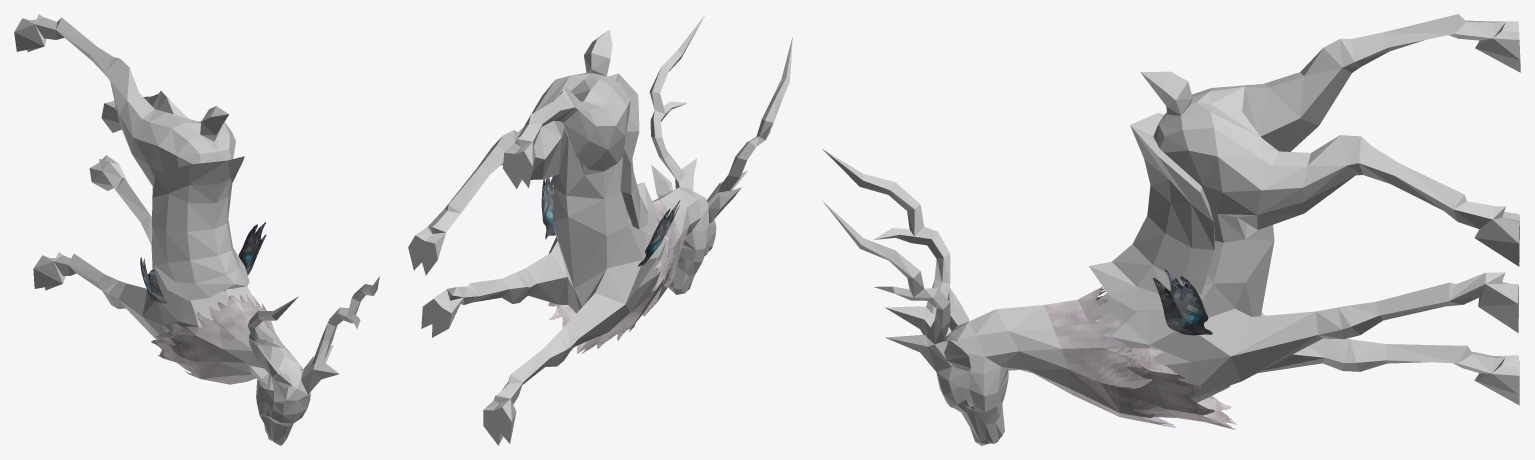
The model's file is mount_merry_b1.obj.
The picture shows the model from 3 angles, left to right: view 1: azimuth 30°, elevation 25°; view 2: azimuth 150°, elevation 25°; view 3: azimuth 270°, elevation 25°; orthographic projection. The views are drawn at different scales.
Parts seen in each view (by area): view 1: Mount_merry_b1; view 2: Mount_merry_b1; view 3: Mount_merry_b1.
Boxes of the visible parts, <box> form: Mount_merry_b1: <box>14,14,379,445</box>; Mount_merry_b1: <box>408,14,792,445</box>; Mount_merry_b1: <box>822,14,1520,445</box>.
Bounding box in the file's own units: 43.14 × 97.76 × 152.
